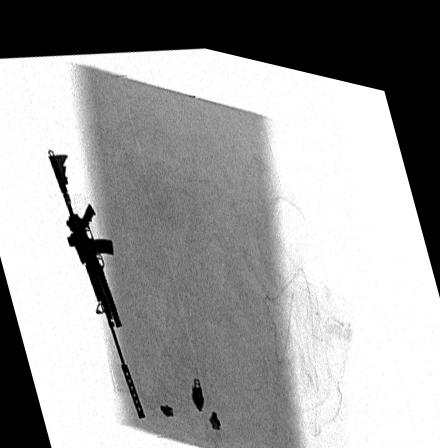Gun: (45, 151, 147, 414)
